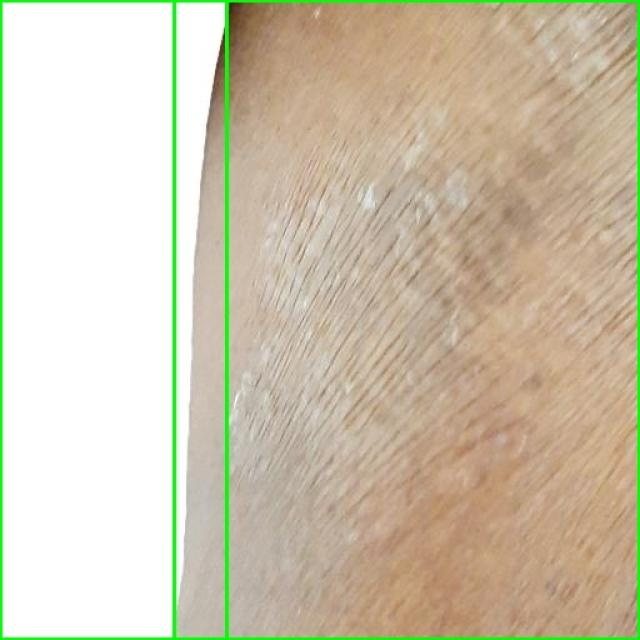Tinea Corporis: (174, 0, 639, 639), (0, 0, 226, 639)
